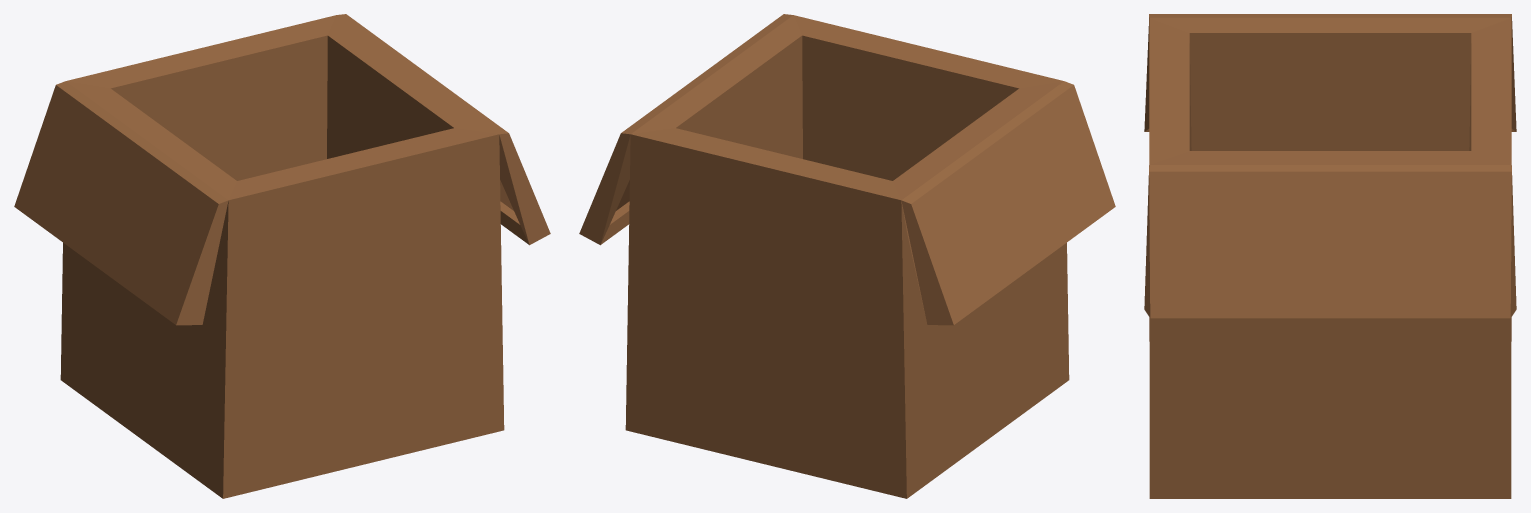
Rendered from box_carton.fbx.
The picture shows the model from 3 angles, left to right: view 1: azimuth 30°, elevation 25°; view 2: azimuth 150°, elevation 25°; view 3: azimuth 270°, elevation 25°; orthographic projection. The views are drawn at different scales.
Parts seen in each view (by area): view 1: Box; view 2: Box; view 3: Box.
Boxes of the visible parts, x1=… form: Box: x1=14, y1=14, x2=550, y2=498; Box: x1=579, y1=14, x2=1115, y2=498; Box: x1=1144, y1=14, x2=1516, y2=498.
Bounding box in the file's own units: 291 × 221 × 225.
